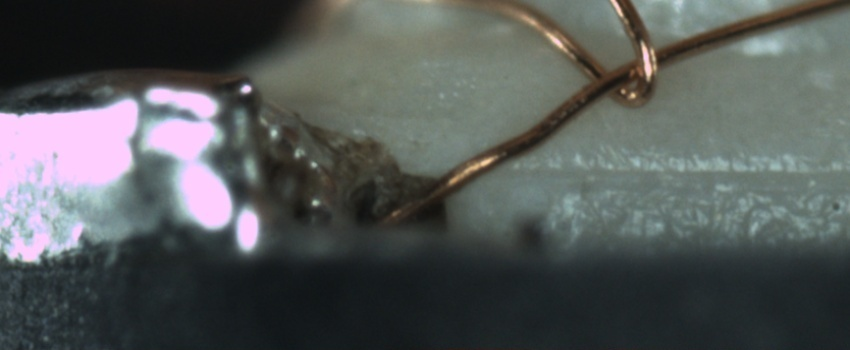CL: (569, 48, 642, 104)
DL: (508, 140, 849, 204)
